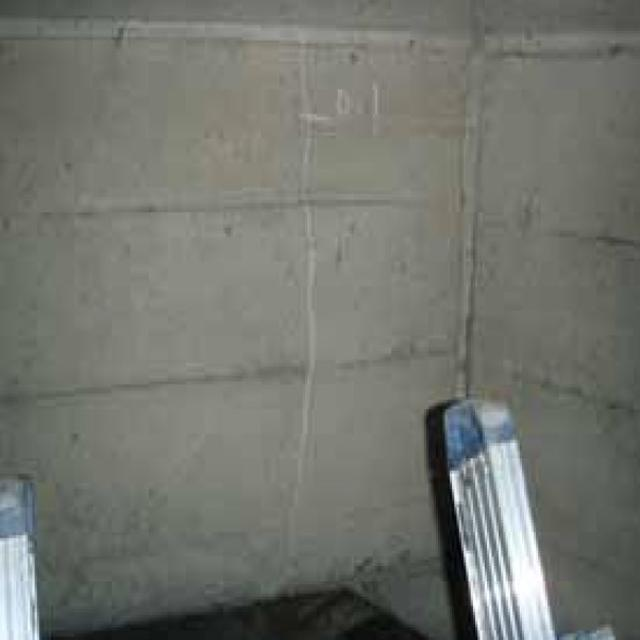crack: (272, 27, 328, 497)
